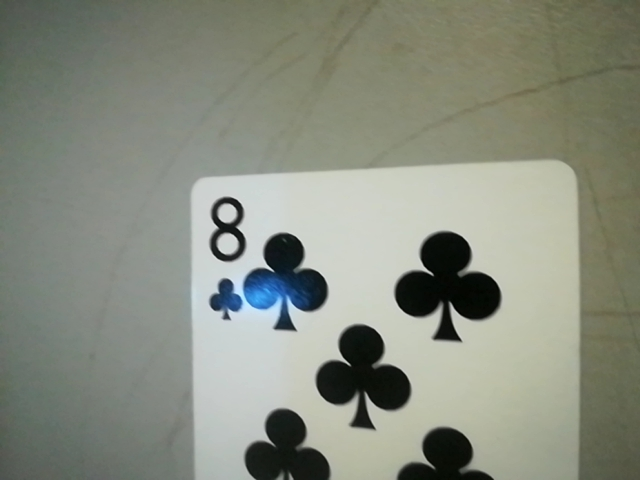mh 8: (193, 185, 260, 326)
